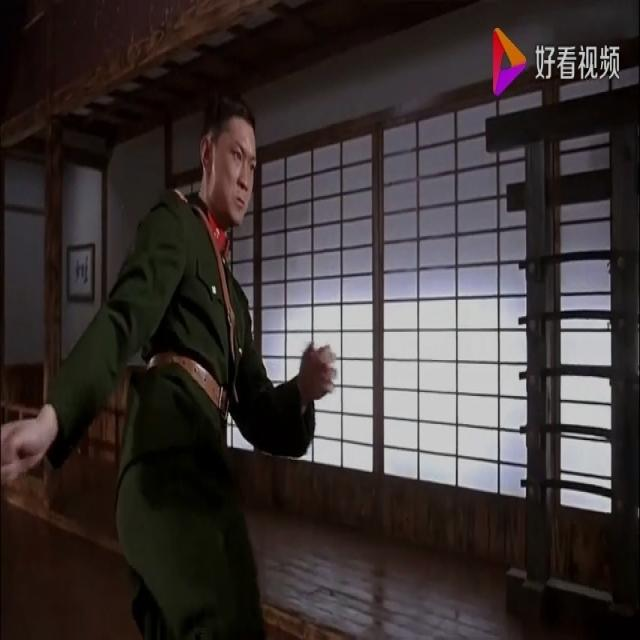fight: (1, 94, 343, 638)
